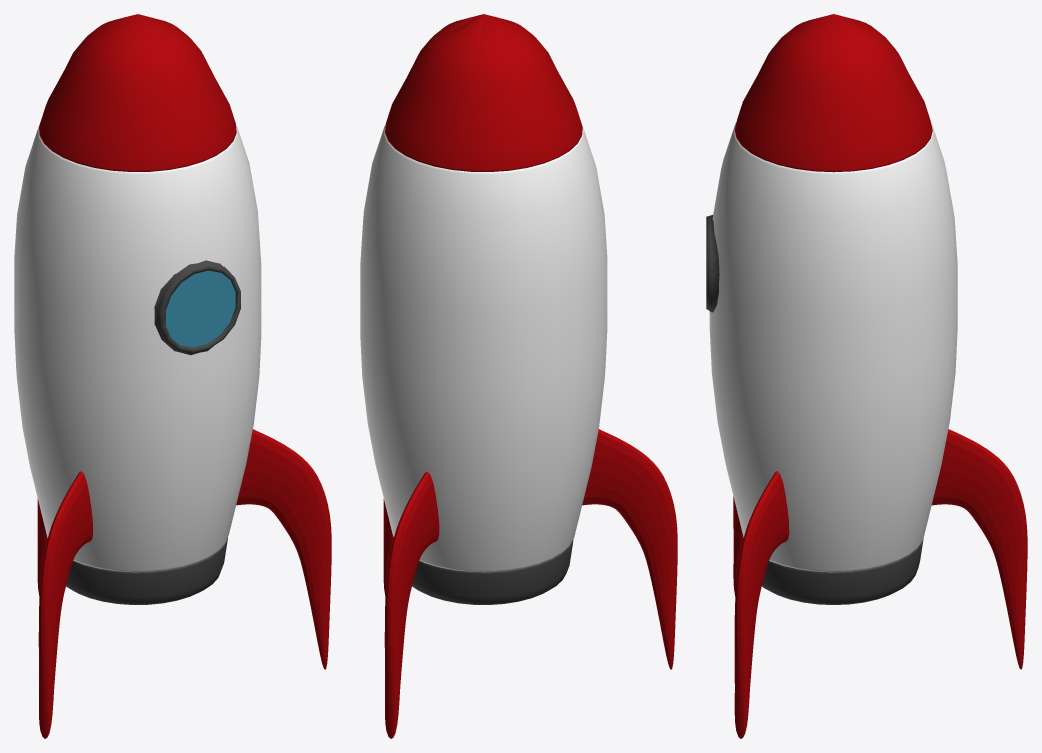
Rendered from rocket.obj.
3 views of the same model, side by side, from view 1: azimuth 30°, elevation 25°; view 2: azimuth 150°, elevation 25°; view 3: azimuth 270°, elevation 25° (orthographic).
Parts seen in each view (by area): view 1: Rocket.001_Rocket; view 2: Rocket.001_Rocket; view 3: Rocket.001_Rocket.
Part boxes in pixels (box(x1,y1,x2,y2)): Rocket.001_Rocket: box(14, 14, 331, 738); Rocket.001_Rocket: box(360, 14, 677, 738); Rocket.001_Rocket: box(706, 14, 1027, 738).
Size of the model in its own units: 0.4478 by 0.9619 by 0.4268.
